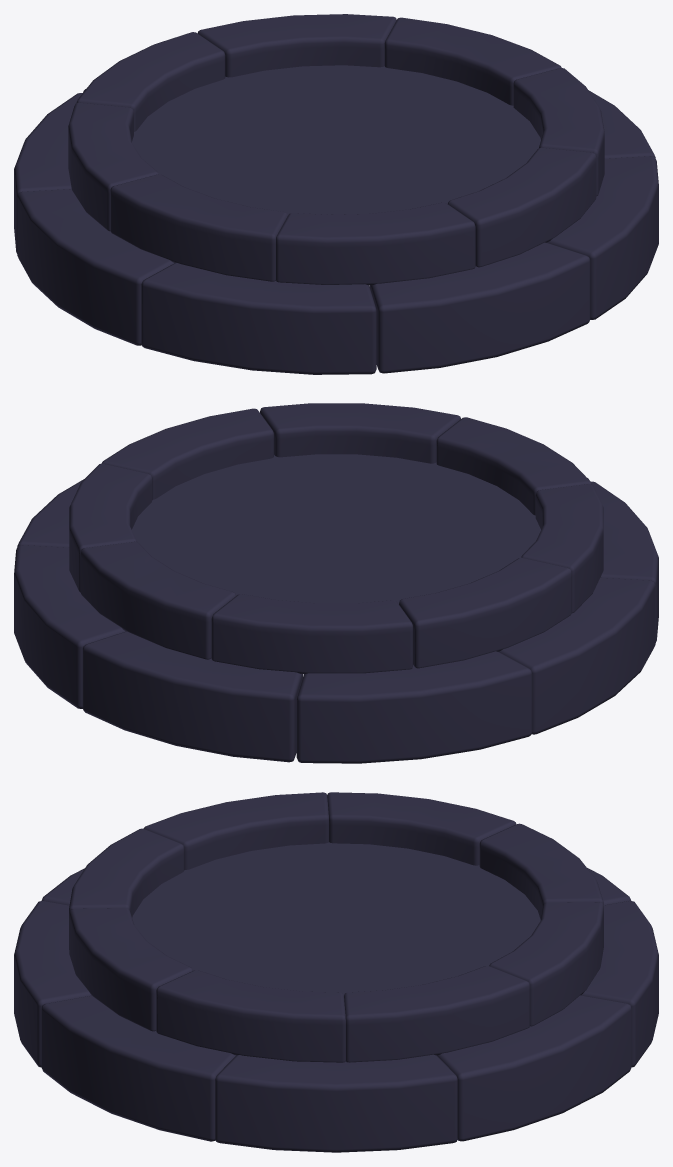
The model's file is approach.fbx.
The picture shows the model from 3 angles, top to bottom: view 1: azimuth 30°, elevation 25°; view 2: azimuth 150°, elevation 25°; view 3: azimuth 270°, elevation 25°; orthographic projection.
Visible parts, largest first — view 1: Circle.009; view 2: Circle.009; view 3: Circle.009.
Boxes of the visible parts, bbox=[...] form: Circle.009: bbox=[14, 14, 658, 374]; Circle.009: bbox=[14, 403, 658, 763]; Circle.009: bbox=[14, 792, 658, 1152].
Bounding box in the file's own units: 579 × 114 × 579.
